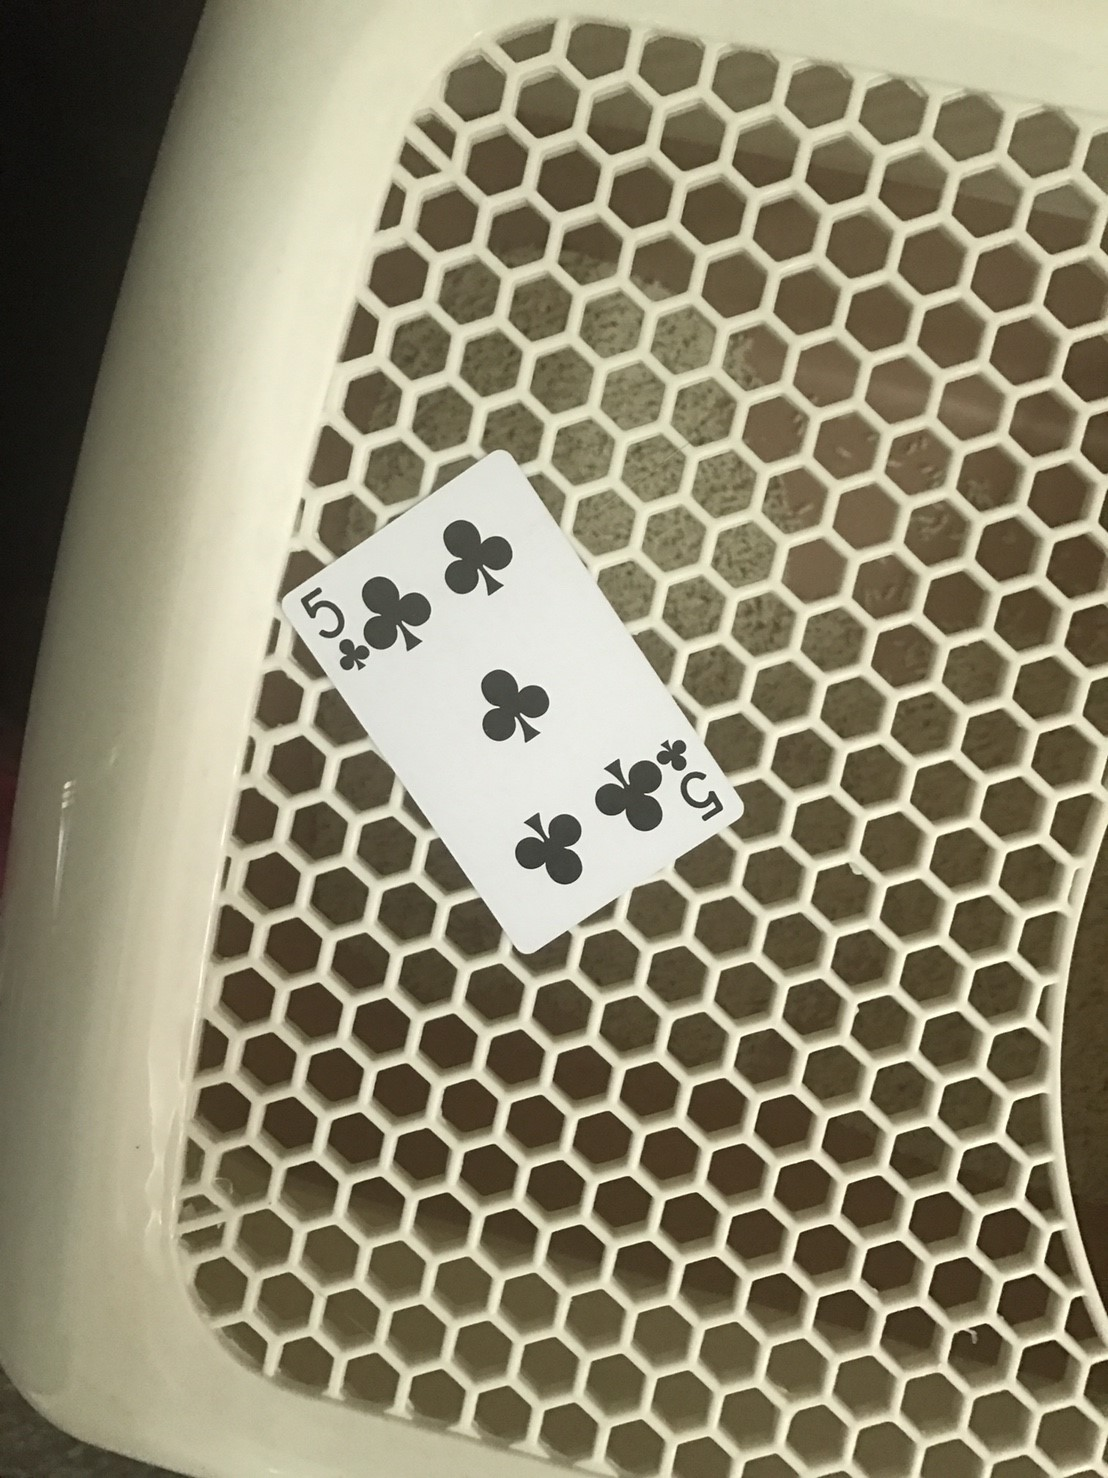clubs: (429, 514, 525, 606), (463, 665, 556, 742), (591, 756, 668, 840), (514, 806, 594, 887), (351, 571, 429, 652), (331, 631, 370, 674), (655, 733, 692, 769)
